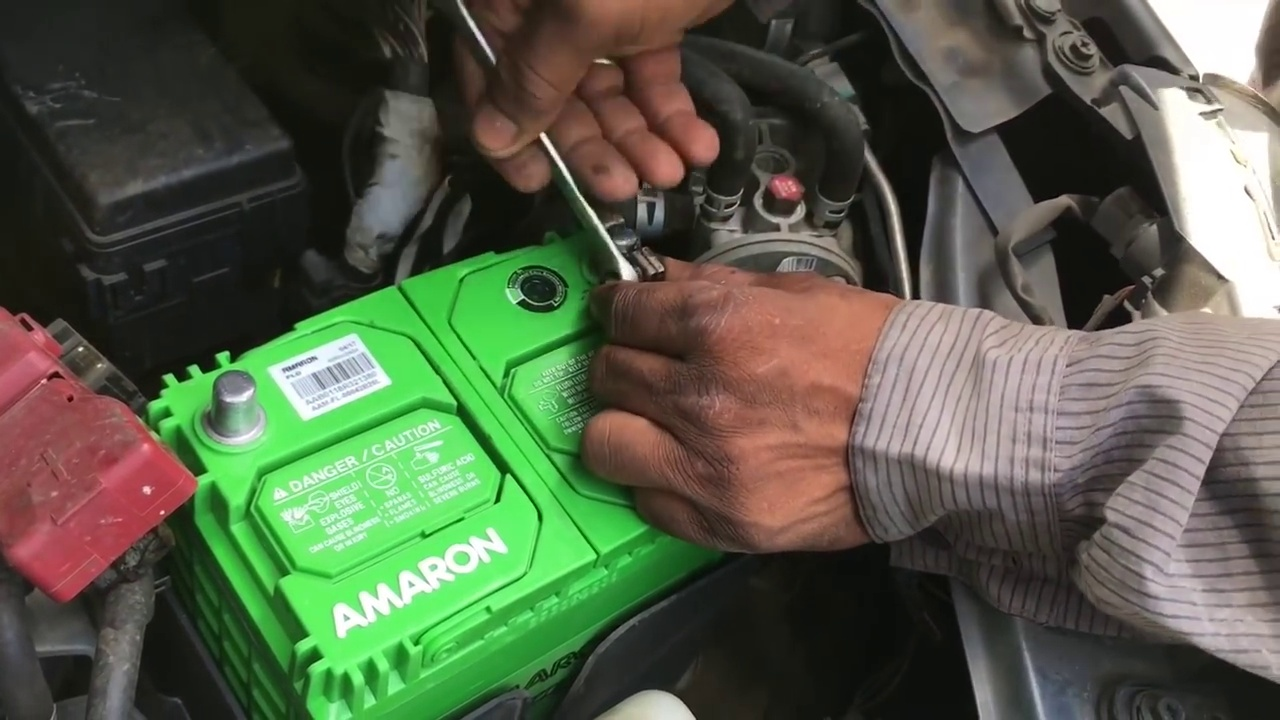battery: (156, 218, 769, 685)
neg_connected: (564, 194, 671, 300)
neg_touched: (490, 95, 783, 469)
pos_touched: (23, 288, 315, 536)
